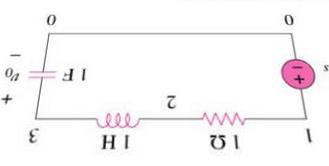inductor: (83, 106, 150, 131)
